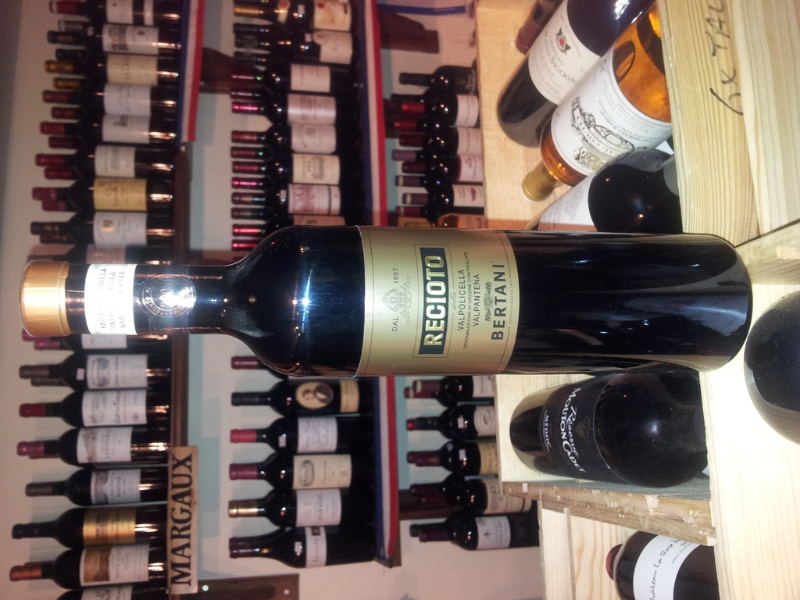wine: (11, 9, 763, 600), (19, 221, 754, 376)
